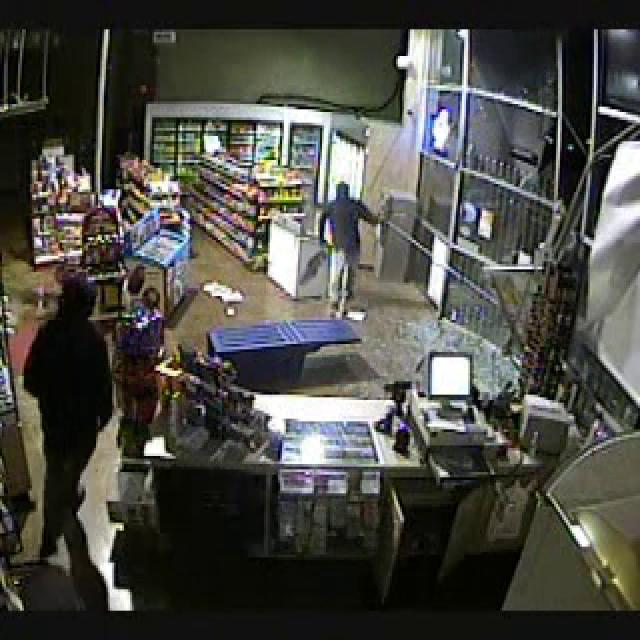burglary: (12, 100, 419, 626)
